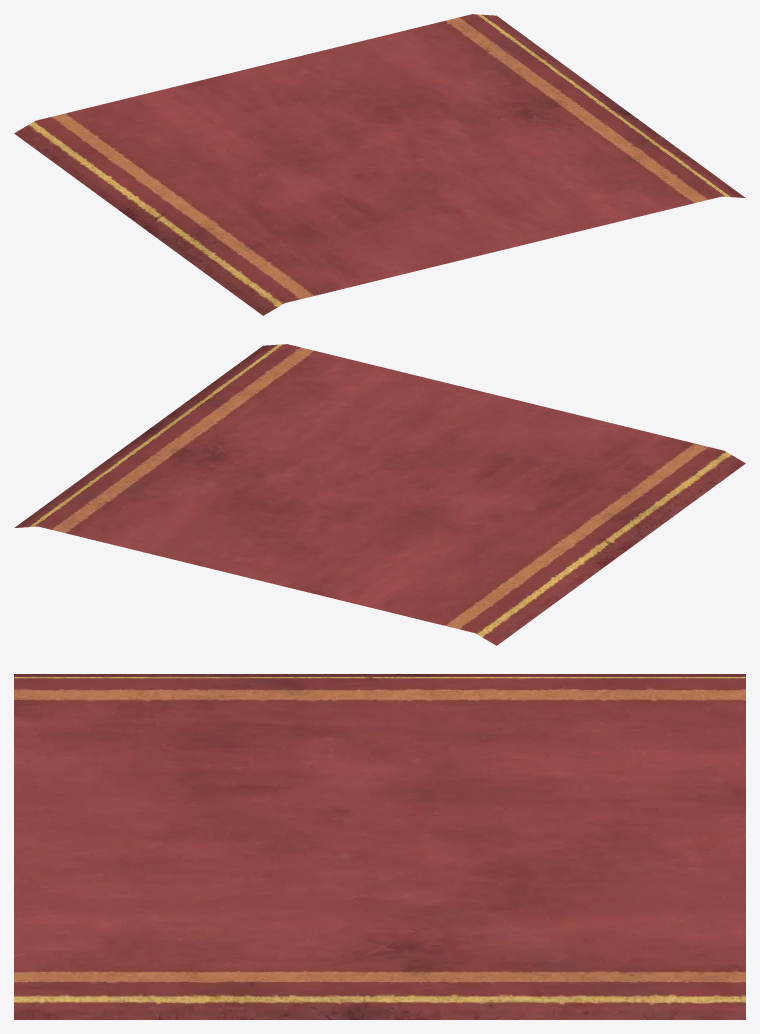
3 renders of one model, top to bottom at view 1: azimuth 30°, elevation 25°; view 2: azimuth 150°, elevation 25°; view 3: azimuth 270°, elevation 25°, orthographic. The views are drawn at different scales.
Parts seen in each view (by area): view 1: SM_DR_Rug_A_01_01_LOD0; view 2: SM_DR_Rug_A_01_01_LOD0; view 3: SM_DR_Rug_A_01_01_LOD0.
Part boxes in pixels (left/top/right/bottom): SM_DR_Rug_A_01_01_LOD0: left=14, top=14, right=745, bottom=315; SM_DR_Rug_A_01_01_LOD0: left=14, top=344, right=745, bottom=645; SM_DR_Rug_A_01_01_LOD0: left=14, top=674, right=745, bottom=1019.
Bounding box in the file's own units: 2.24 × 0.033 × 2.
Materials: 1 (1 with a texture image).
